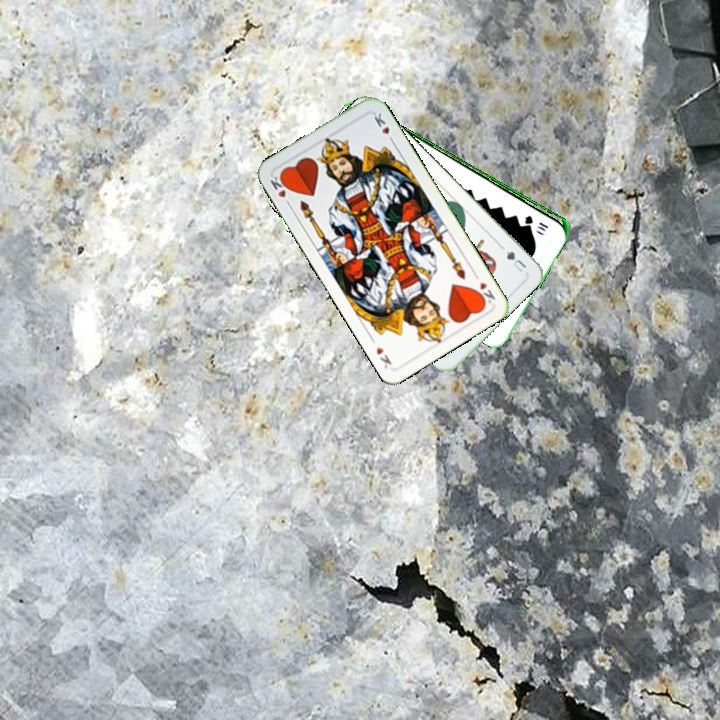G10: (521, 211, 551, 231)
GU: (502, 246, 529, 275)
HK: (470, 269, 498, 309), (266, 170, 294, 210)
